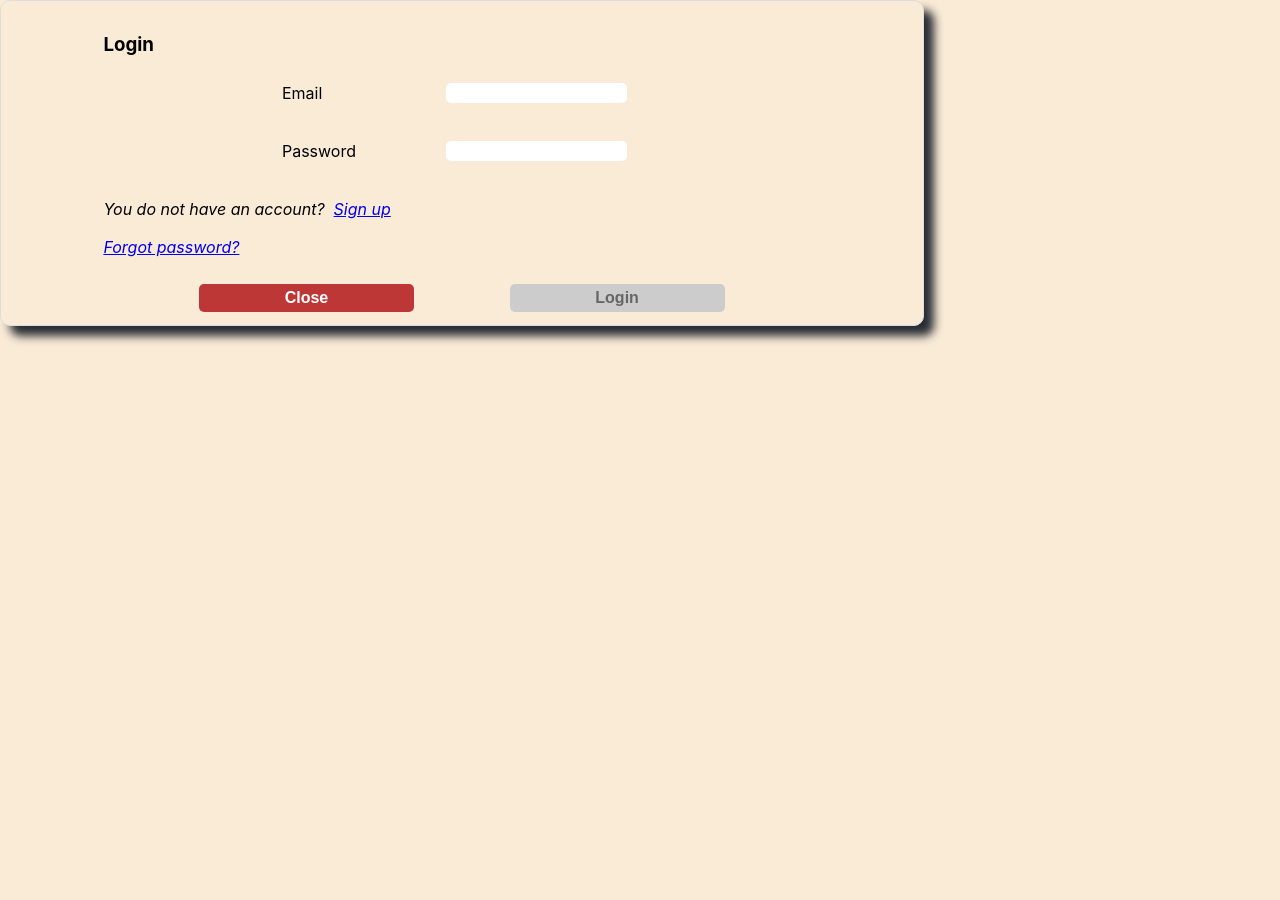
it: Login › disables the button until both fields are filled
Expected: the button "Login" is disabled, [510,284,725,312]
In the field labelled "Email": [537, 93] box [446,83,627,103], type "ash@pallet.town"
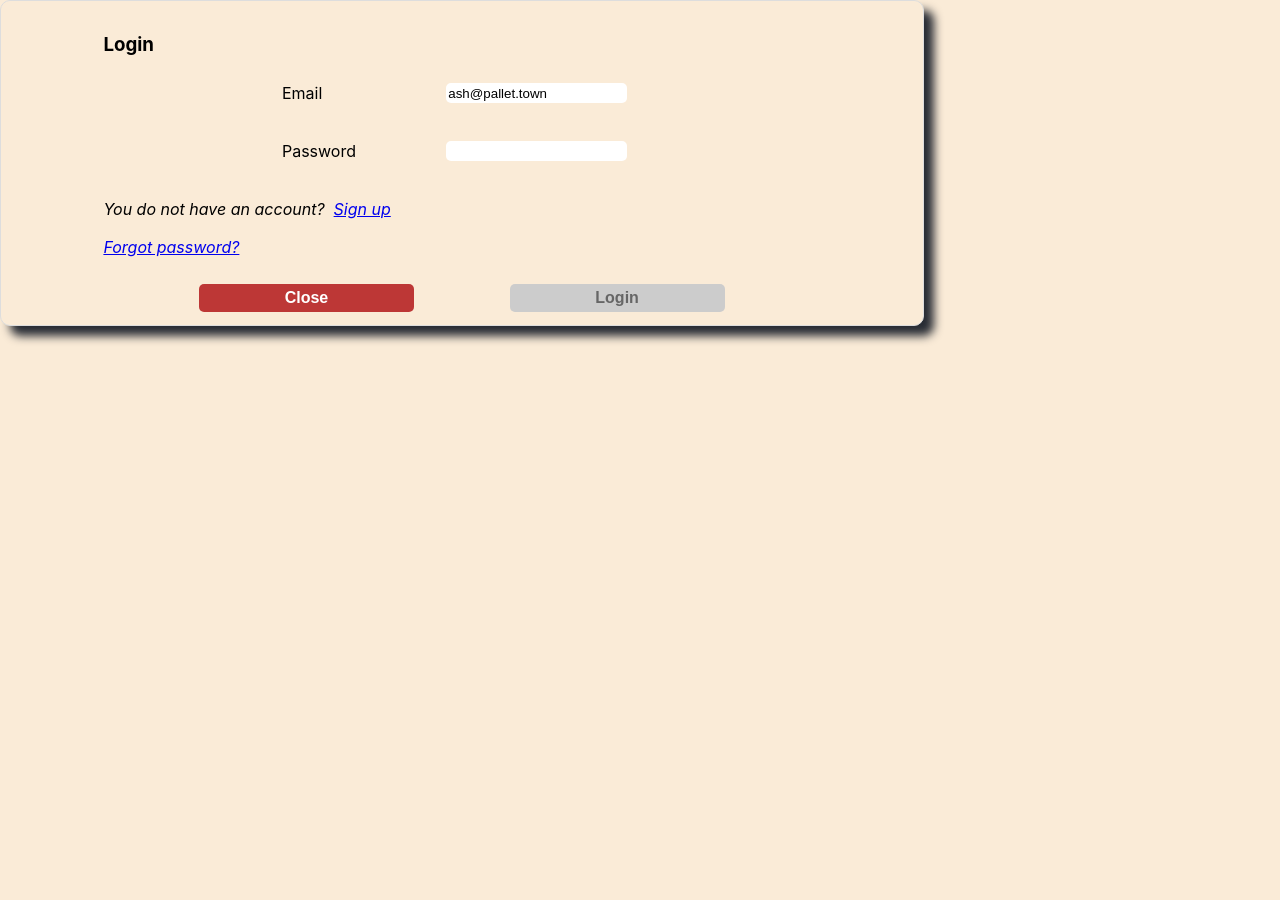
Expected: the button "Login" is disabled, [510,284,725,312]
In the password field labelled "Password": [537, 151] box [446,141,627,161], type "secret"
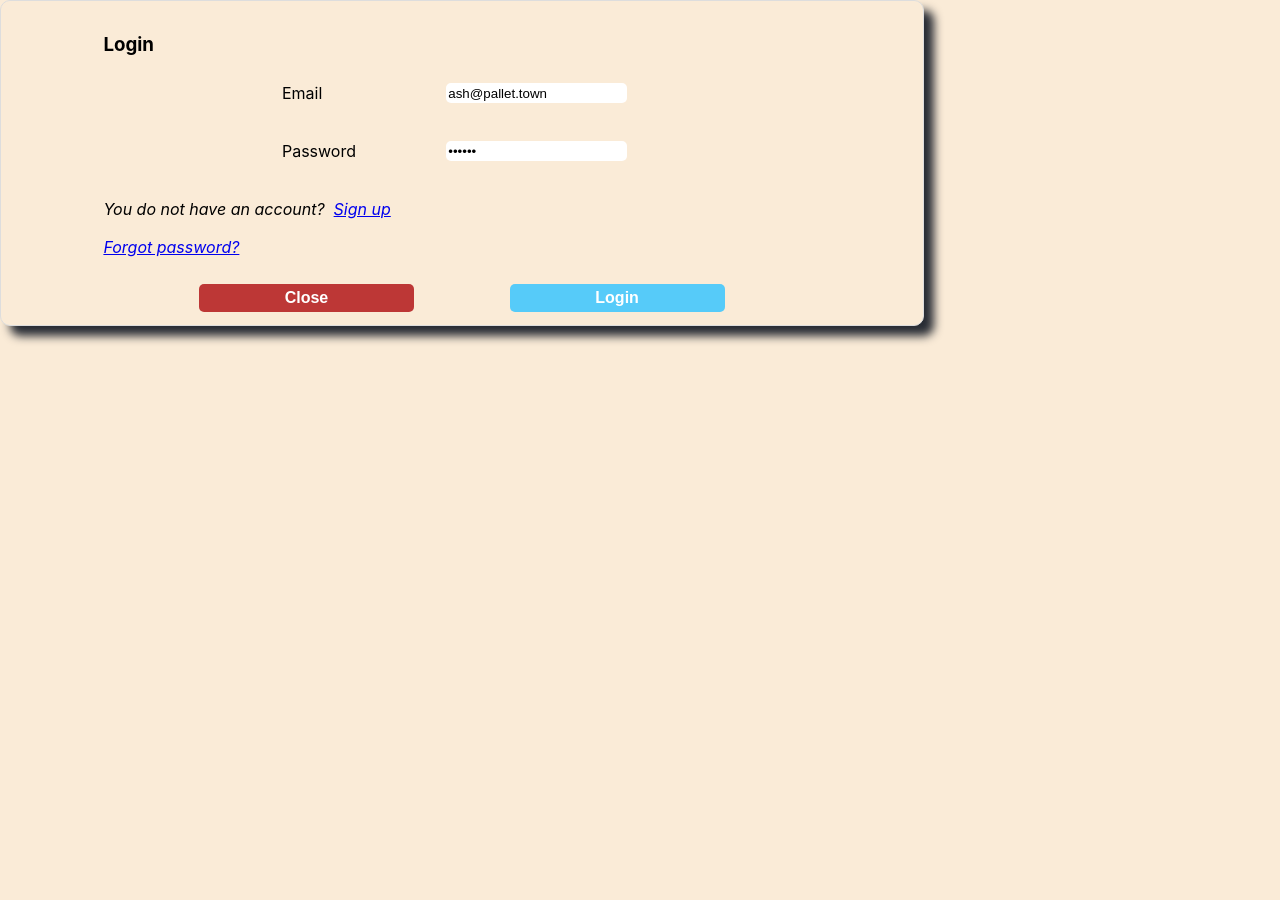
Now the button "Login" is enabled, box [510,284,725,312]
